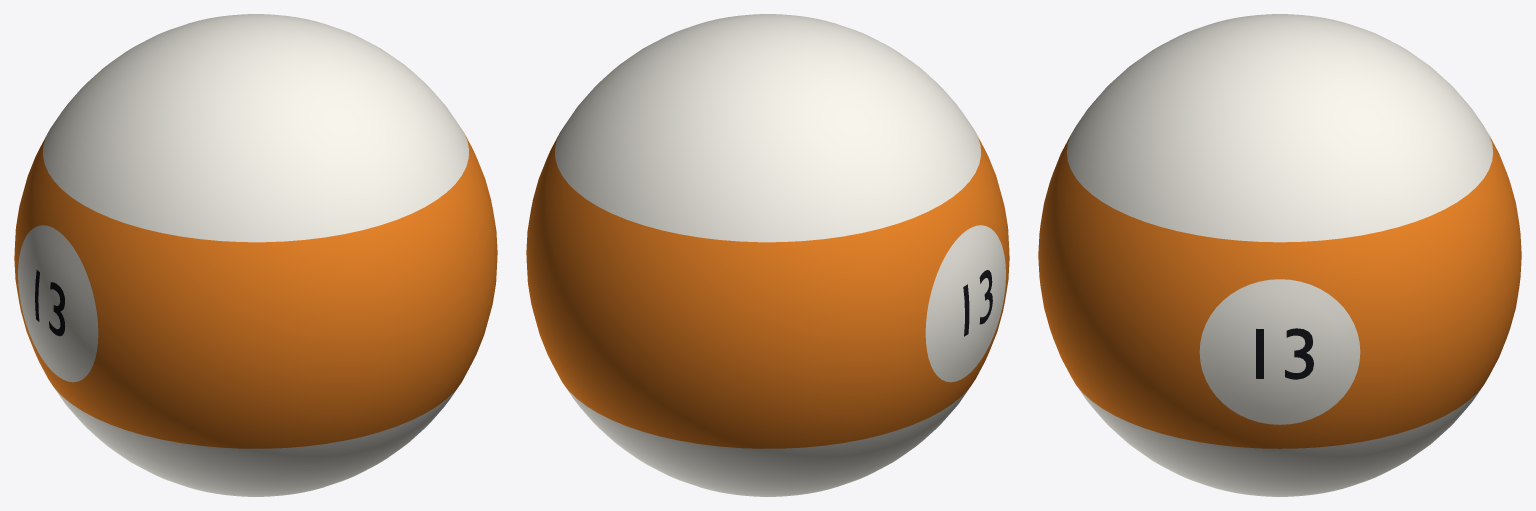
The model's file is ball_13.glb.
3 views of the same model, side by side, from view 1: azimuth 30°, elevation 25°; view 2: azimuth 150°, elevation 25°; view 3: azimuth 270°, elevation 25° (orthographic).
Visible parts, largest first — view 1: Ball 13 | resin, Ball 13 | number medallion | opposite, Ball 13 | numeral 13 | opposite; view 2: Ball 13 | resin, Ball 13 | number medallion | opposite, Ball 13 | numeral 13 | opposite; view 3: Ball 13 | resin, Ball 13 | number medallion, Ball 13 | numeral 13.
Boxes of the visible parts, x1,y1,x2,y2 form: Ball 13 | resin: (14, 14, 497, 496); Ball 13 | number medallion | opposite: (18, 225, 98, 382); Ball 13 | numeral 13 | opposite: (35, 270, 65, 336); Ball 13 | resin: (526, 14, 1009, 496); Ball 13 | number medallion | opposite: (925, 225, 1005, 382); Ball 13 | numeral 13 | opposite: (963, 270, 992, 336); Ball 13 | resin: (1038, 14, 1521, 496); Ball 13 | number medallion: (1199, 279, 1360, 424); Ball 13 | numeral 13: (1256, 328, 1313, 379).
Size of the model in its own units: 0.0573 by 0.0571 by 0.0571.
